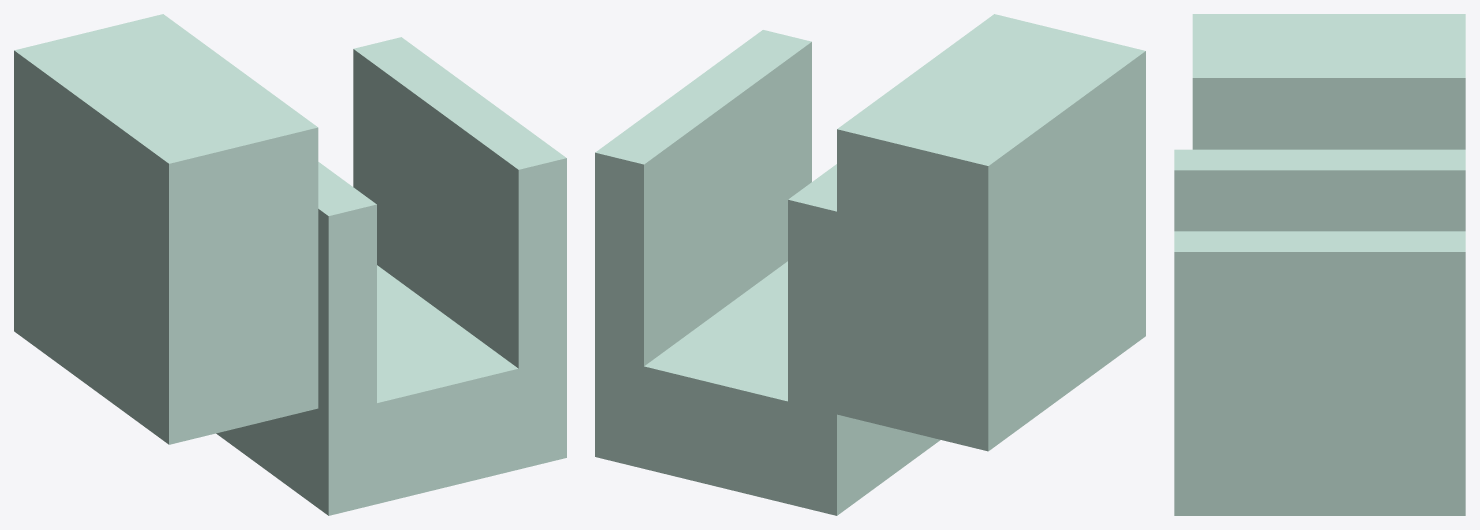
The picture shows the model from 3 angles, left to right: view 1: azimuth 30°, elevation 25°; view 2: azimuth 150°, elevation 25°; view 3: azimuth 270°, elevation 25°; orthographic projection. The views are drawn at different scales.
Parts seen in each view (by area): view 1: Renderer Node; view 2: Renderer Node; view 3: Renderer Node.
Boxes of the visible parts, x1=… form: Renderer Node: x1=14, y1=14, x2=566, y2=515; Renderer Node: x1=595, y1=14, x2=1145, y2=515; Renderer Node: x1=1174, y1=14, x2=1465, y2=515.
Size of the model in its own units: 1.01 by 0.9531 by 0.75.
